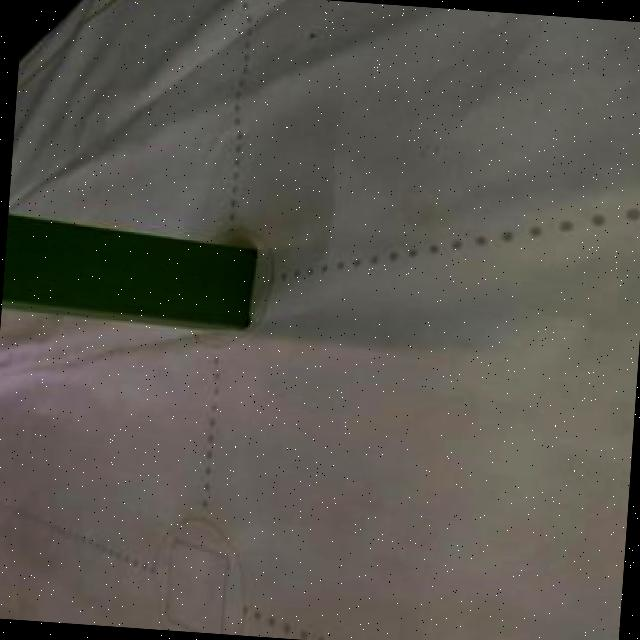greenbox: (0, 210, 255, 335)
